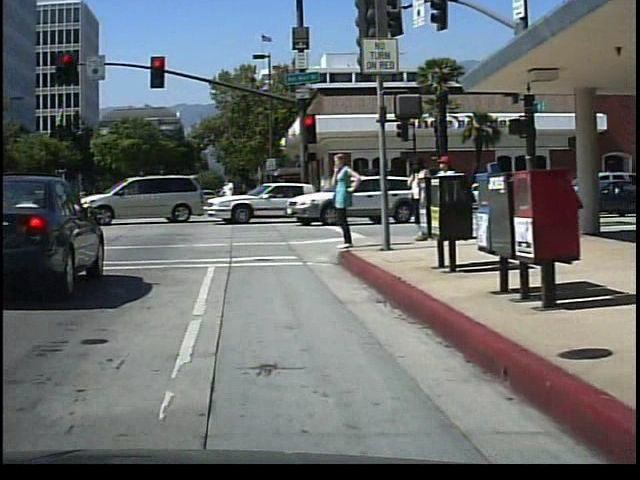person: (325, 148, 359, 253), (428, 146, 461, 244), (404, 149, 433, 243)
